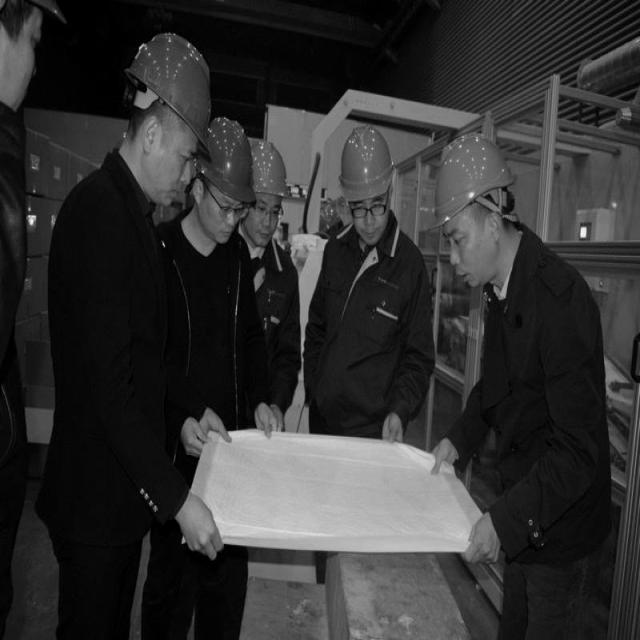face_nomask: (133, 124, 197, 205), (0, 1, 42, 120), (443, 210, 505, 286), (198, 188, 240, 254), (244, 197, 282, 254), (350, 192, 387, 246)
hand_noglove: (176, 498, 234, 567), (464, 502, 502, 569), (177, 414, 208, 462), (428, 430, 458, 477), (378, 413, 406, 452), (258, 400, 279, 442)
head_helmet: (127, 25, 210, 150), (428, 133, 514, 228), (197, 113, 258, 202), (338, 125, 394, 200), (254, 142, 292, 199)
person: (51, 25, 202, 640), (445, 123, 602, 632), (161, 110, 263, 626), (303, 128, 430, 440), (2, 1, 34, 602), (250, 139, 304, 419)
